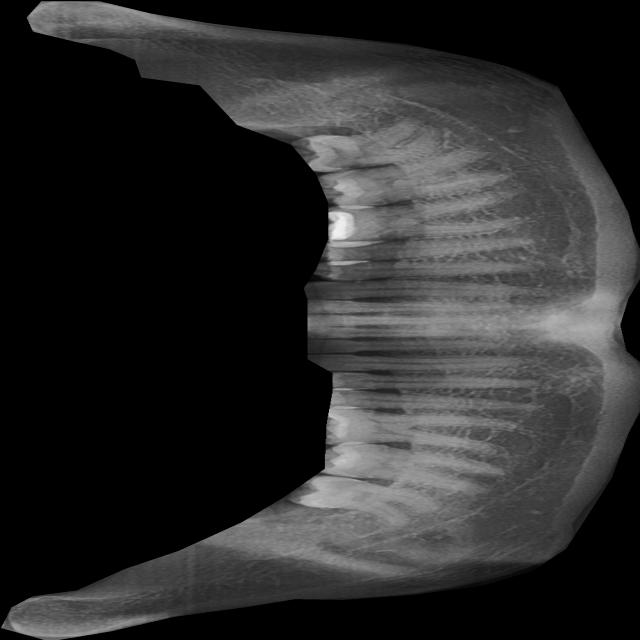mandibula: (1, 0, 640, 640)
